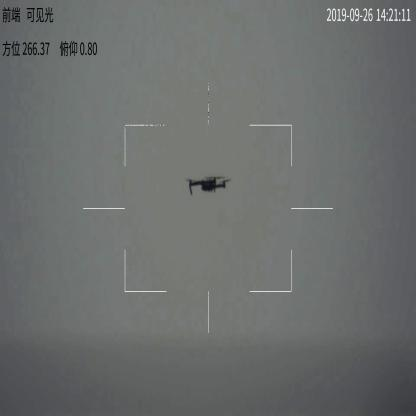uav: (183, 170, 230, 198)
